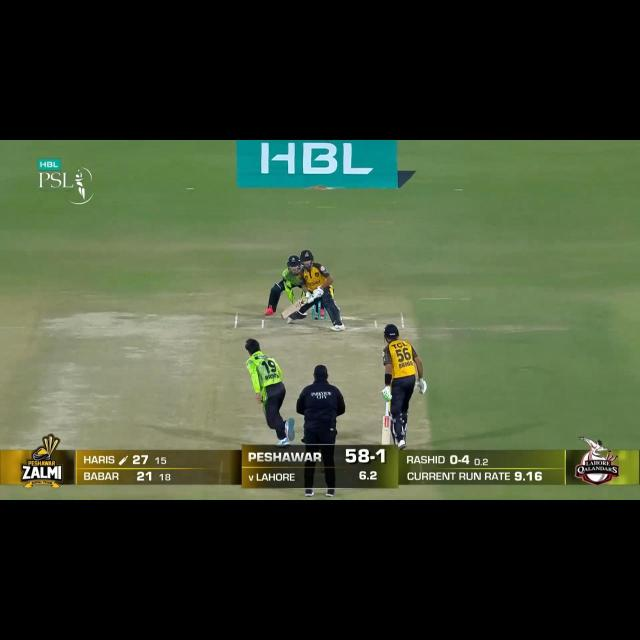bat: (280, 297, 310, 321), (379, 413, 393, 447)
toe: (280, 309, 293, 319)
